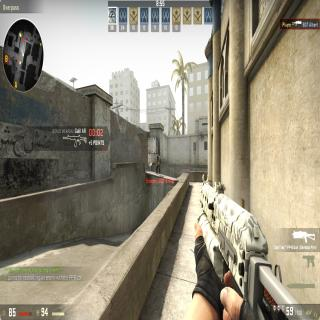CT-Body: (156, 154, 160, 174)
CT-Head: (157, 154, 159, 159)
